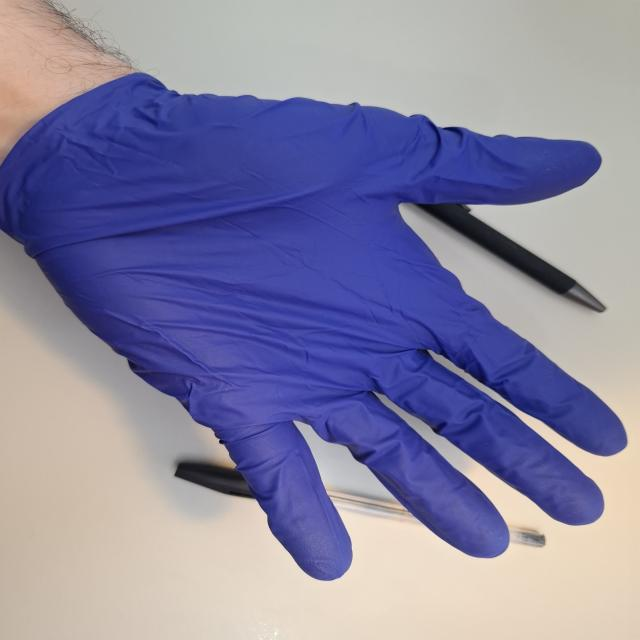glove_on: (2, 67, 630, 584)
